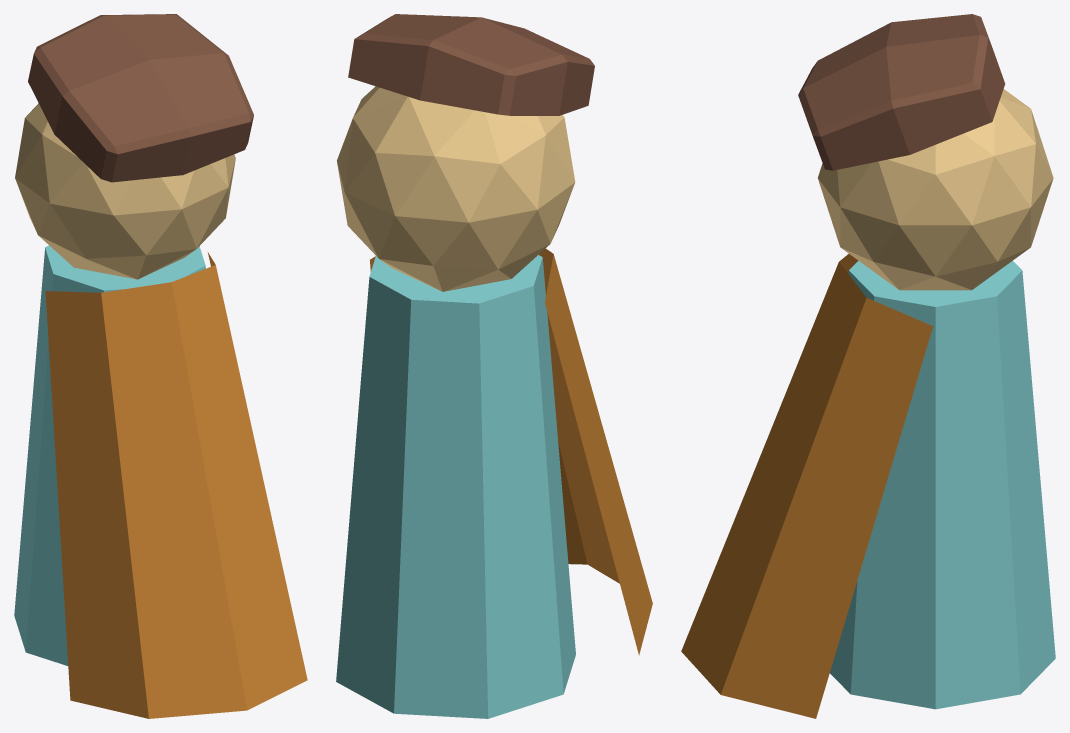
The model's file is Player.fbx.
3 renders of one model, left to right at view 1: azimuth 30°, elevation 25°; view 2: azimuth 150°, elevation 25°; view 3: azimuth 270°, elevation 25°, orthographic. The views are drawn at different scales.
Parts seen in each view (by area): view 1: Cloak, Hat, Head, Body; view 2: Body, Head, Hat, Cloak; view 3: Body, Cloak, Head, Hat.
Boxes of the visible parts, <box> form: Cloak: <box>45,252,307,718</box>; Hat: <box>28,14,253,182</box>; Head: <box>15,103,235,279</box>; Body: <box>14,245,205,665</box>; Body: <box>336,255,575,718</box>; Head: <box>337,86,575,291</box>; Hat: <box>348,14,594,115</box>; Cloak: <box>370,248,652,655</box>; Body: <box>830,261,1055,709</box>; Cloak: <box>681,254,932,718</box>; Head: <box>818,89,1053,290</box>; Hat: <box>798,14,1005,170</box>.
Bounding box in the file's own units: 52.64 × 134 × 72.84.
